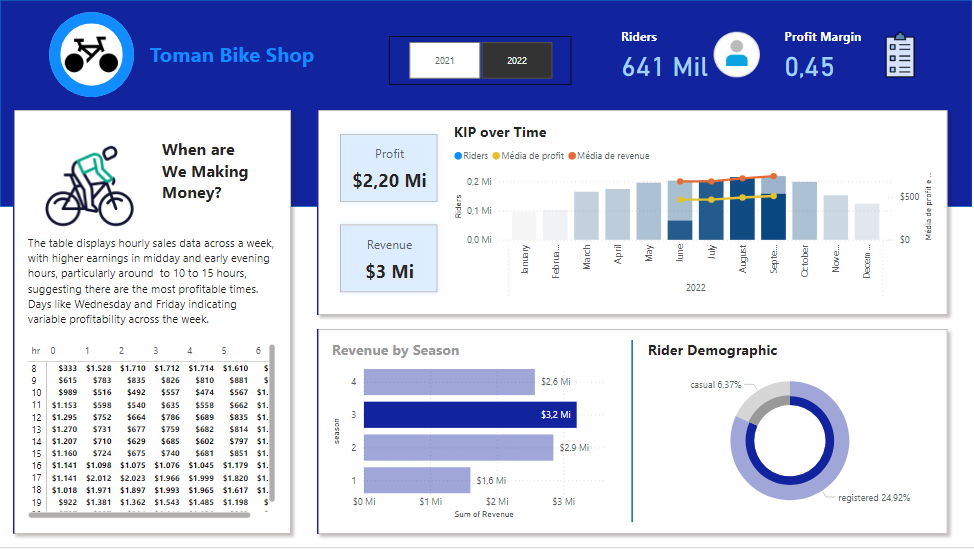

The dashboard page shown, as its layout file describes it:
{"tool":"powerbi","page":{"name":"Page 1","canvas":[1280,720],"ordinal":0},"visuals":[{"type":"shape","box":[0,0,1280,272],"z":0},{"type":"cardVisual","fields":{"Data":["Sum(Query2.riders)"]},"box":[0,128,400,592],"z":1000},{"type":"cardVisual","fields":{"Data":["Sum(Query2.riders)"]},"box":[400,128,864,304],"z":2000},{"type":"cardVisual","fields":{"Data":["Sum(Query2.riders)"]},"box":[400,416,864,304],"z":3000},{"type":"cardVisual","fields":{"Data":["Sum(Query2.riders)"]},"box":[32,160,176,144],"z":4000},{"type":"pivotTable","fields":{"Rows":["Query2.hr"],"Columns":["Query2.weekday"],"Values":["Avg(Query2.revenue)"]},"box":[32,448,336,240],"z":5000},{"type":"textbox","box":[208,176,144,112],"z":6000},{"type":"textbox","box":[32,304,336,144],"z":7000},{"type":"lineClusteredColumnComboChart","title":"KIP over Time","fields":{"Category":["Query2.dteday.Variation.Date Hierarchy.Year","Query2.dteday.Variation.Date Hierarchy.Month","Query2.dteday.Variation.Date Hierarchy.Day"],"Y":["Sum(Query2.riders)"],"Y2":["Avg(Query1.profit)","Avg(Query1.revenue)"]},"box":[592,160,640,240],"z":8000},{"type":"clusteredBarChart","title":"Revenue by Season","fields":{"Y":["Sum(Query1.revenue)"],"Category":["Query1.season"]},"box":[432,448,384,240],"z":9000},{"type":"donutChart","title":"Rider Demographic","fields":{"Category":["Query1.rider_type"],"Y":["Sum(Query1.riders)"]},"box":[848,448,384,240],"z":10000},{"type":"shape","box":[816,448,32,240],"z":11000},{"type":"cardVisual","title":"KIP over Time","fields":{"Data":["Sum(Query1.profit)","Sum(Query1.revenue)"]},"box":[432,160,160,240],"z":12000},{"type":"cardVisual","fields":{"Data":["Sum(Query1.riders)","Query1.Profit Margin"]},"box":[800,16,432,112],"z":13000},{"type":"shape","box":[64,16,112,112],"z":14000},{"type":"image","box":[80,32,80,80],"z":15000},{"type":"textbox","box":[192,48,352,64],"z":16000},{"type":"slicer","fields":{"Values":["Query1.Years"]},"box":[512,48,240,64],"z":17000}]}

Visuals, with their boxes in screenshot pixels (x1, y1, x2, y2), scaled from the page's 1280x720 canvas onto the 974x549 screenshot:
shape: (0,0,973,207)
cardVisual - Sum(Query2.riders): (0,98,304,548)
cardVisual - Sum(Query2.riders): (304,98,962,329)
cardVisual - Sum(Query2.riders): (304,317,962,548)
cardVisual - Sum(Query2.riders): (24,122,158,232)
pivotTable - Query2.hr x Query2.weekday: (24,342,280,525)
textbox: (158,134,268,220)
textbox: (24,232,280,342)
"KIP over Time" lineClusteredColumnComboChart: (450,122,937,305)
"Revenue by Season" clusteredBarChart: (329,342,621,525)
"Rider Demographic" donutChart: (645,342,937,525)
shape: (621,342,645,525)
"KIP over Time" cardVisual: (329,122,450,305)
cardVisual - Sum(Query1.riders) x Query1.Profit Margin: (609,12,937,98)
shape: (49,12,134,98)
image: (61,24,122,85)
textbox: (146,37,414,85)
slicer - Query1.Years: (390,37,572,85)
